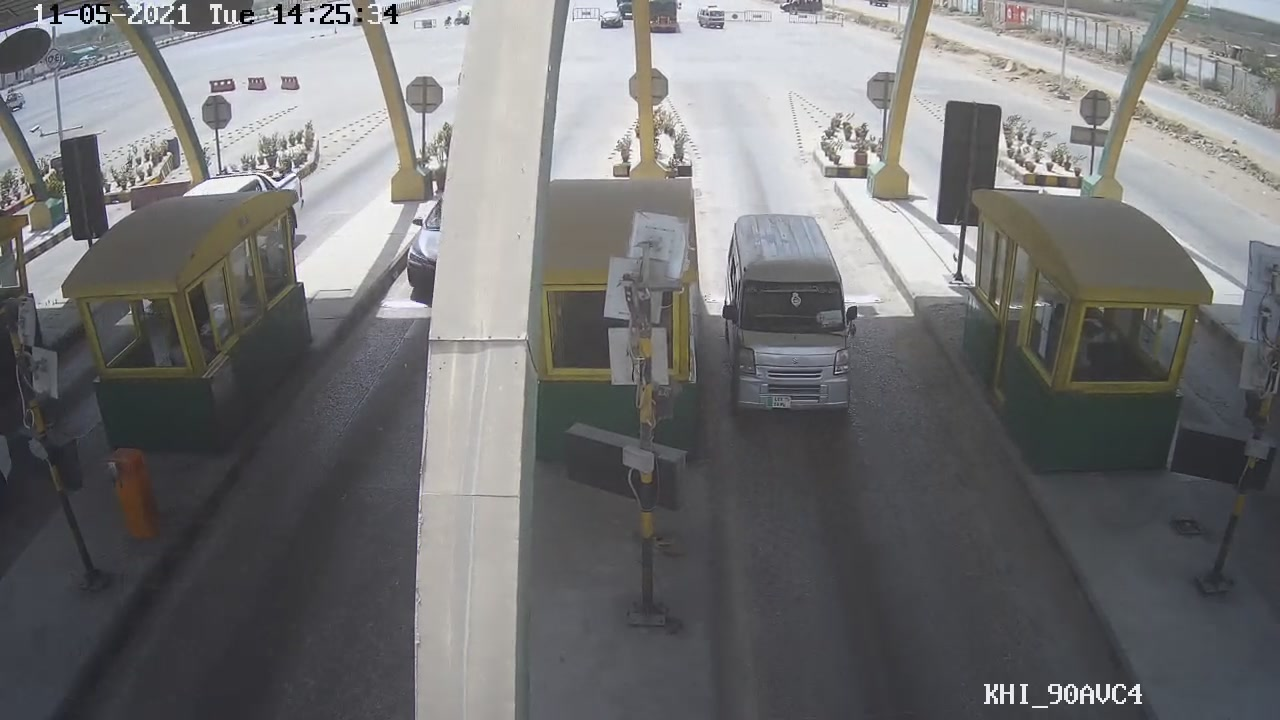F1: (713, 210, 861, 424)
